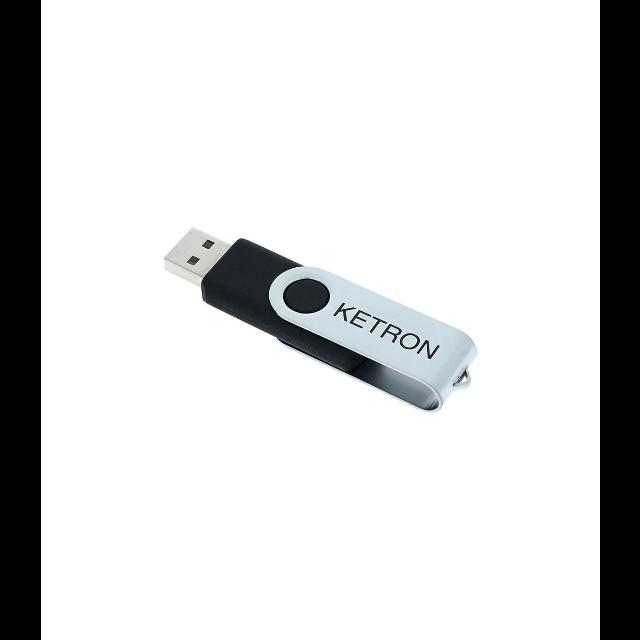USB-Flash-Drive: (160, 226, 478, 412)
